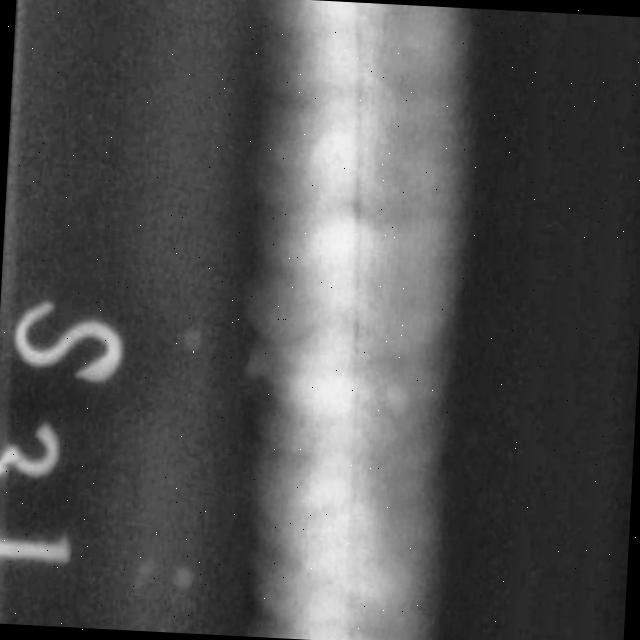LoP-LoF: (288, 4, 413, 640)
